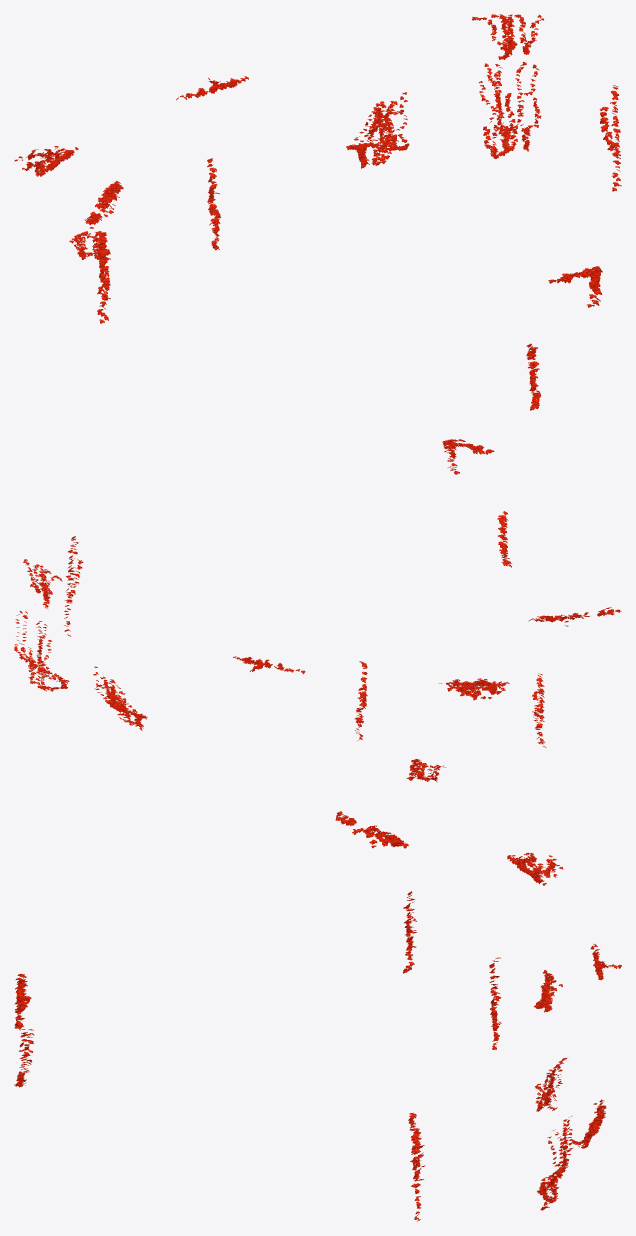
The model's file is NodeTrees.fbx.
The picture shows the model from 3 angles, top to bottom: view 1: azimuth 30°, elevation 25°; view 2: azimuth 150°, elevation 25°; view 3: azimuth 270°, elevation 25°; orthographic projection. The views are drawn at different scales.
Size of the model in its own units: 2183 by 519 by 2024.
